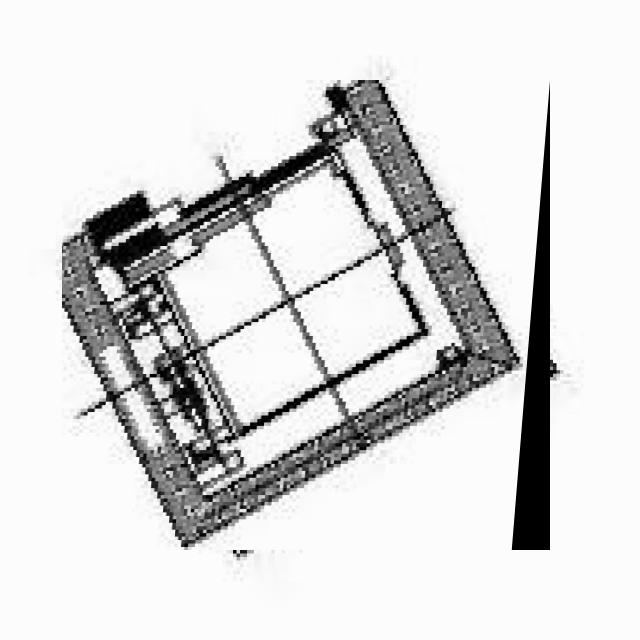lift: (62, 80, 550, 550)
